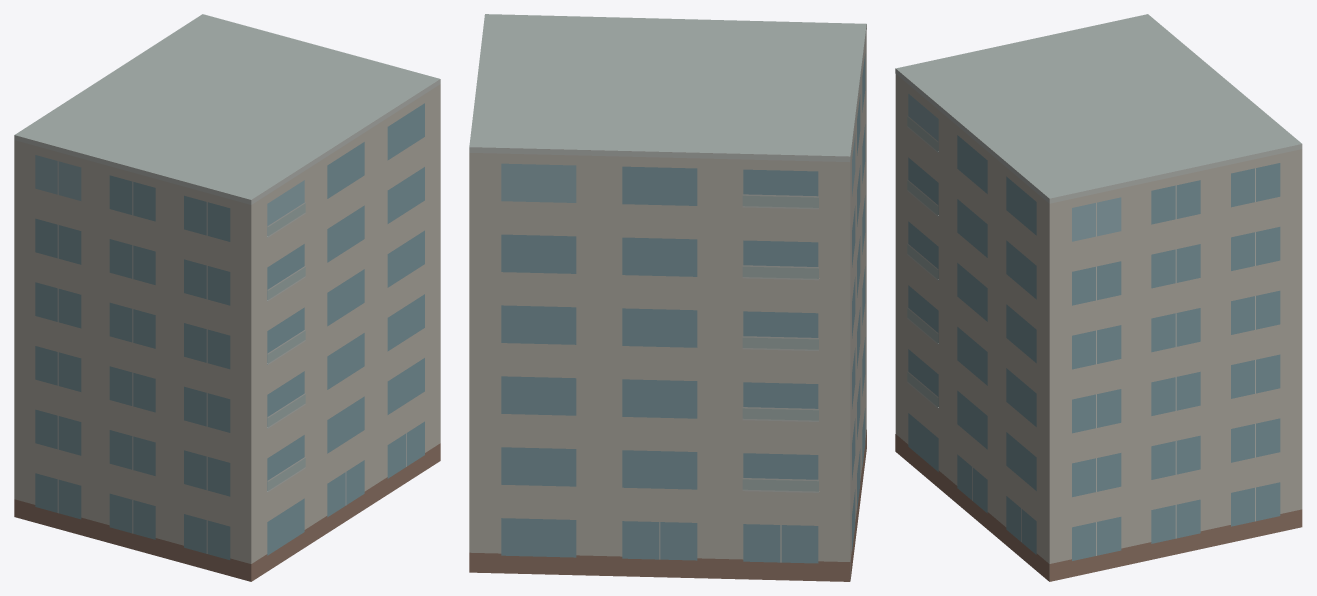
File: survey-upis-32983201.glb
3 views of the same model, side by side, from view 1: azimuth 30°, elevation 25°; view 2: azimuth 150°, elevation 25°; view 3: azimuth 270°, elevation 25° (orthographic). The views are drawn at different scales.
Parts seen in each view (by area): view 1: survey-upis-32983201.tmp; view 2: survey-upis-32983201.tmp; view 3: survey-upis-32983201.tmp.
Boxes of the visible parts, bbox=[...] form: survey-upis-32983201.tmp: bbox=[14, 14, 440, 581]; survey-upis-32983201.tmp: bbox=[469, 14, 866, 581]; survey-upis-32983201.tmp: bbox=[895, 14, 1302, 581].
Size of the model in its own units: 18.92 by 18.3 by 17.61.
